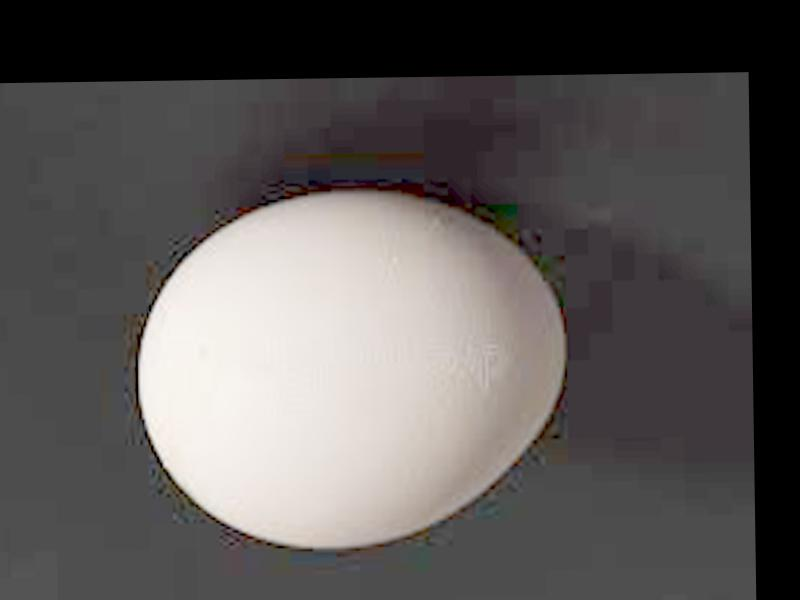Eggs: (133, 192, 565, 549)
